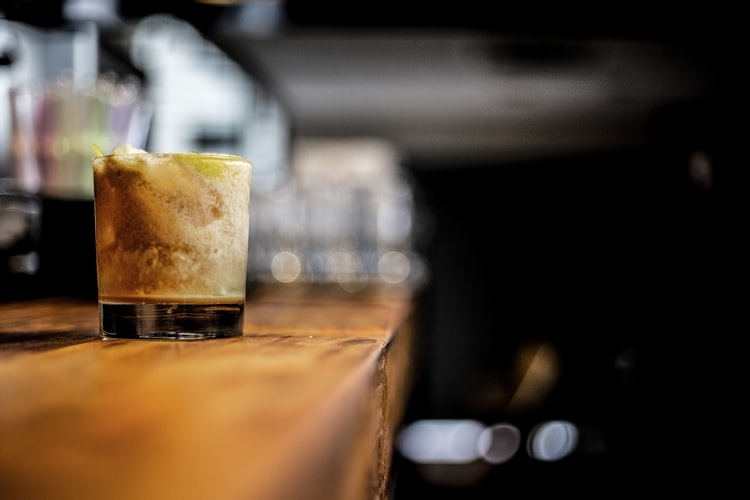whiskey: (78, 151, 256, 338)
